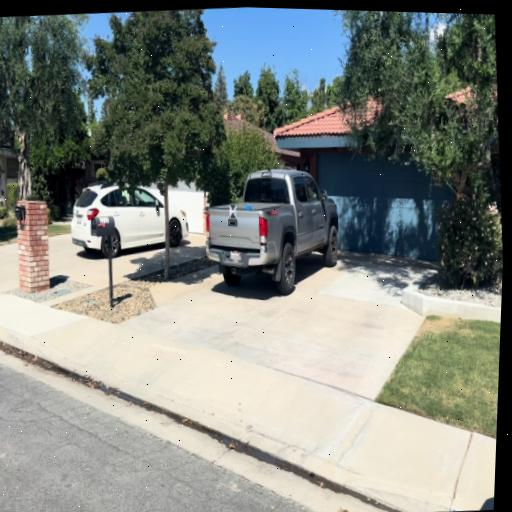target1: (230, 204, 237, 219)
